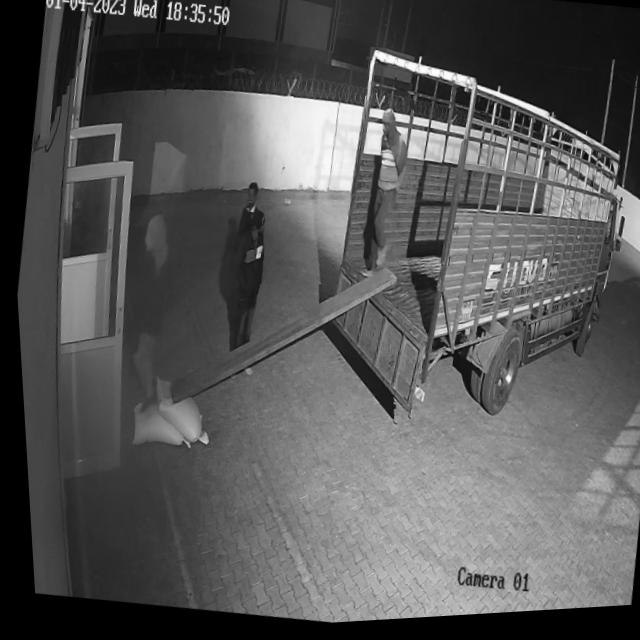sack: (141, 375, 212, 450), (123, 396, 191, 456)
